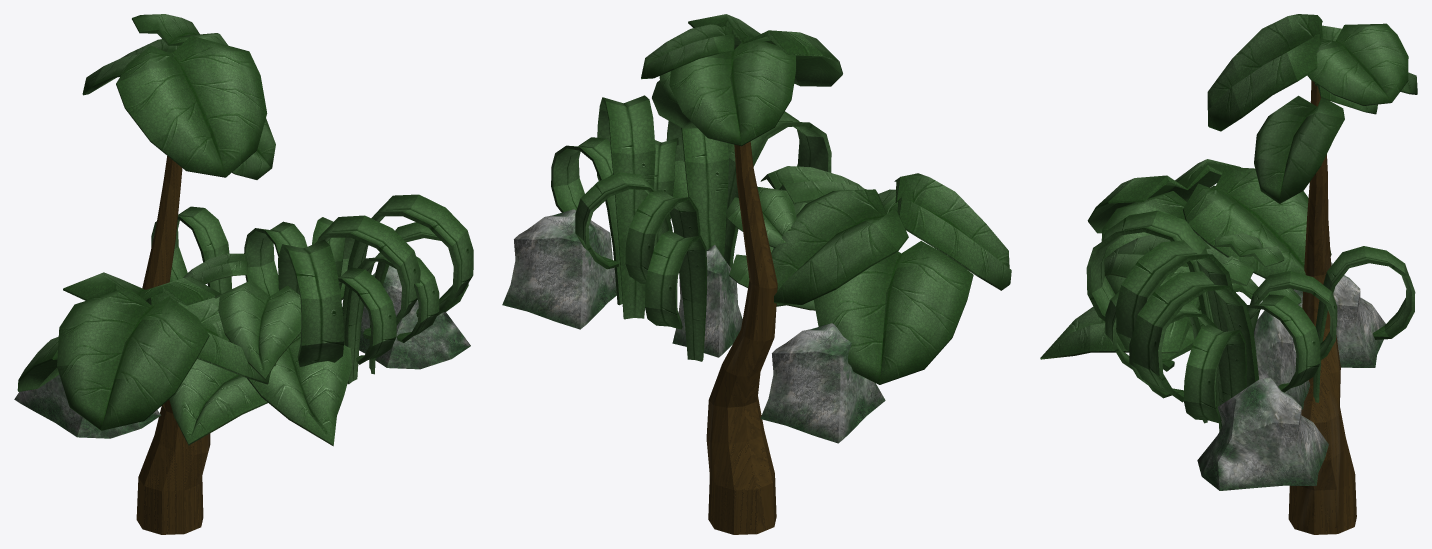
Rendered from Plants02.fbx.
3 views of the same model, side by side, from view 1: azimuth 30°, elevation 25°; view 2: azimuth 150°, elevation 25°; view 3: azimuth 270°, elevation 25° (orthographic). The views are drawn at different scales.
Visible parts, largest first — view 1: LeafRound_geo4, LeafRound_geo, TreeTrunk_geo, Leaf_Tongue_geo4, Leaf_geo4, Leaf_geo7, Leaf_geo5, Stone_geo, Leaf_Tongue_geo2, Leaf_Tongue_geo8, Leaf_Tongue_geo1, Stone_geo2 (+12 smaller); view 2: TreeTrunk_geo, LeafRound_geo7, LeafRound_geo6, LeafRound_geo8, Stone_geo2, Stone_geo, LeafRound_geo4, Leaf_Tongue_geo2, Leaf_Tongue_geo3, Leaf_Tongue_geo8, Leaf_Tongue_geo7, LeafRound_geo (+10 smaller); view 3: TreeTrunk_geo, Stone_geo, LeafRound_geo6, LeafRound_geo, LeafRound_geo1, LeafRound_geo2, Leaf_Tongue_geo2, Leaf_Tongue_geo8, Leaf_Tongue_geo, Leaf_Tongue_geo4, Stone_geo2, Leaf_Tongue_geo3 (+14 smaller).
Part boxes in pixels (left/top/right/bottom): LeafRound_geo4: left=57, top=287, right=209, bottom=430; LeafRound_geo: left=116, top=35, right=267, bottom=177; TreeTrunk_geo: left=136, top=156, right=210, bottom=534; Leaf_Tongue_geo4: left=278, top=239, right=344, bottom=366; Leaf_geo4: left=247, top=333, right=351, bottom=446; Leaf_geo7: left=218, top=280, right=301, bottom=379; Leaf_geo5: left=169, top=359, right=267, bottom=445; Stone_geo: left=342, top=265, right=470, bottom=369; Leaf_Tongue_geo2: left=342, top=194, right=473, bottom=344; Leaf_Tongue_geo8: left=315, top=215, right=420, bottom=339; Leaf_Tongue_geo1: left=345, top=252, right=439, bottom=384; Stone_geo2: left=14, top=374, right=161, bottom=438; TreeTrunk_geo: left=706, top=141, right=777, bottom=534; LeafRound_geo7: left=813, top=241, right=973, bottom=384; LeafRound_geo6: left=771, top=189, right=908, bottom=304; LeafRound_geo8: left=669, top=36, right=796, bottom=146; Stone_geo2: left=760, top=323, right=885, bottom=443; Stone_geo: left=502, top=209, right=616, bottom=329; LeafRound_geo4: left=894, top=173, right=1011, bottom=290; Leaf_Tongue_geo2: left=597, top=95, right=655, bottom=319; Leaf_Tongue_geo3: left=645, top=230, right=707, bottom=361; Leaf_Tongue_geo8: left=666, top=121, right=728, bottom=257; Leaf_Tongue_geo7: left=625, top=189, right=700, bottom=284; LeafRound_geo: left=688, top=14, right=842, bottom=86; TreeTrunk_geo: left=1288, top=80, right=1356, bottom=534; Stone_geo: left=1197, top=377, right=1328, bottom=490; LeafRound_geo6: left=1183, top=167, right=1331, bottom=278; LeafRound_geo: left=1207, top=14, right=1322, bottom=131; LeafRound_geo1: left=1254, top=95, right=1344, bottom=203; LeafRound_geo2: left=1307, top=23, right=1408, bottom=105; Leaf_Tongue_geo2: left=1132, top=271, right=1258, bottom=402; Leaf_Tongue_geo8: left=1116, top=240, right=1232, bottom=371; Leaf_Tongue_geo: left=1183, top=324, right=1246, bottom=423; Leaf_Tongue_geo4: left=1086, top=210, right=1217, bottom=406; Stone_geo2: left=1293, top=262, right=1385, bottom=367; Leaf_Tongue_geo3: left=1313, top=246, right=1415, bottom=402.
Bounding box in the file's own units: 13.62 × 14.77 × 10.15.
